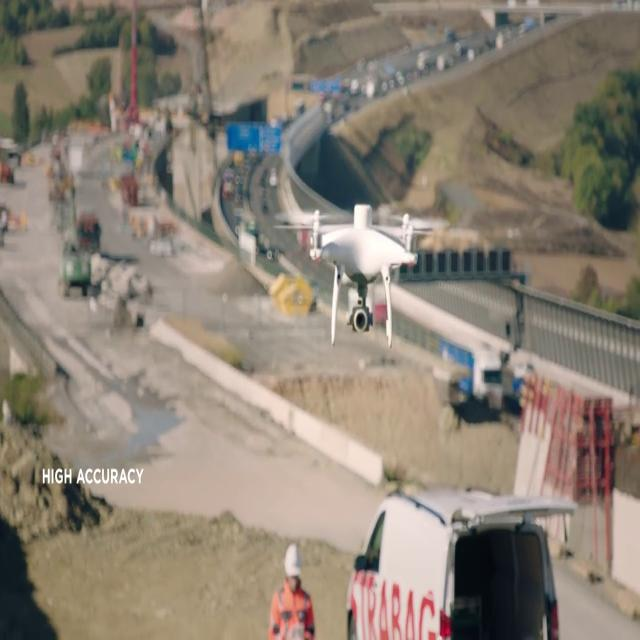drone: (276, 198, 452, 350)
